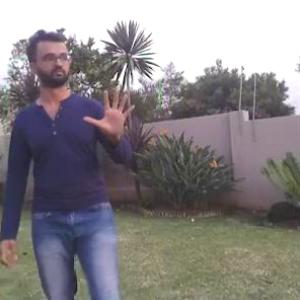follow_hand: (82, 82, 139, 139)
